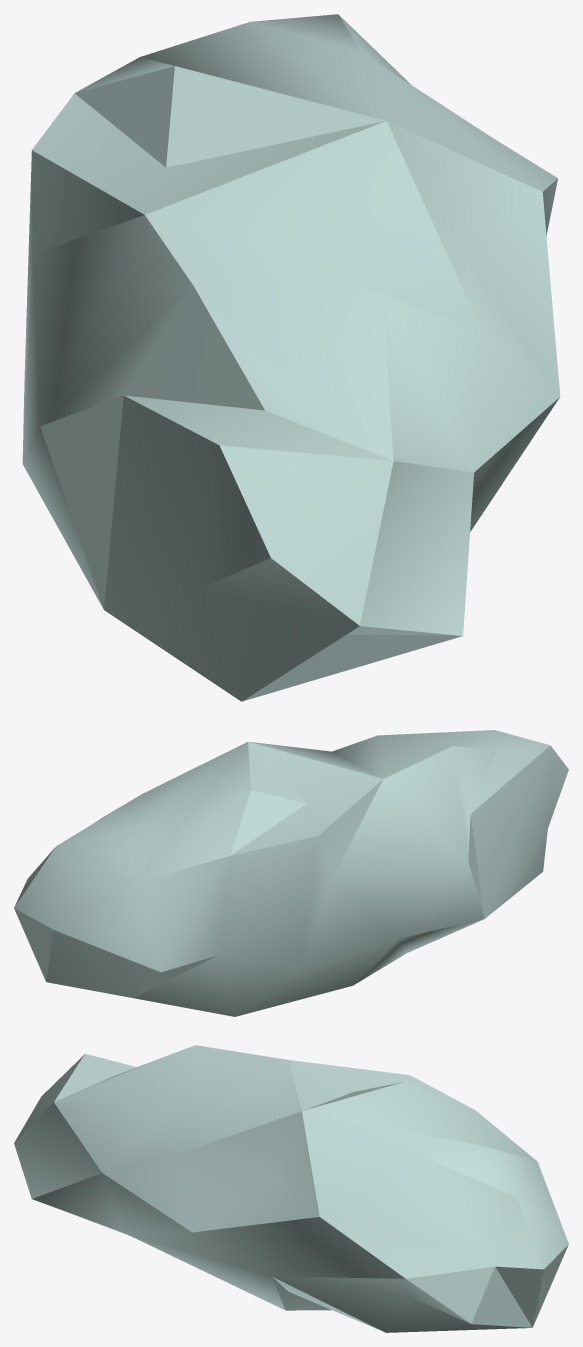
File: cloud2.fbx
The picture shows the model from 3 angles, top to bottom: view 1: azimuth 30°, elevation 25°; view 2: azimuth 150°, elevation 25°; view 3: azimuth 270°, elevation 25°; orthographic projection. The views are drawn at different scales.
Parts seen in each view (by area): view 1: cloud2; view 2: cloud2; view 3: cloud2.
Part boxes in pixels (x1,y1,x2,y2): cloud2: [22, 14, 560, 701]; cloud2: [14, 730, 568, 1016]; cloud2: [14, 1045, 568, 1332].
Bounding box in the file's own units: 4.67 × 2.93 × 6.64.
